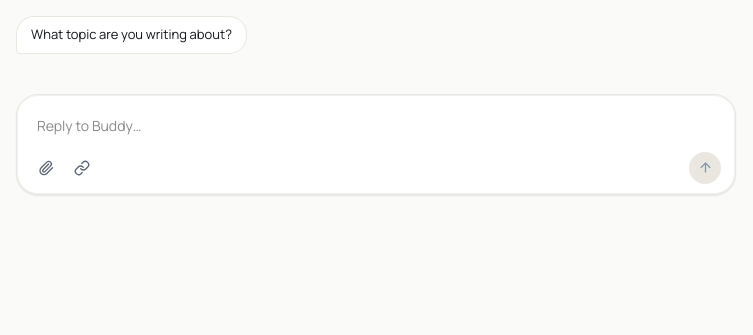
Test: Skip escape hatch › shows 'Skip to approach' after user sends first message
This screenshot has width=753, height=335.
Expected: the text "What topic are you writing about?" is shown, [16, 16, 247, 54]
In the text box: point(376, 125) [31, 106, 721, 144], type "Quantum computing"
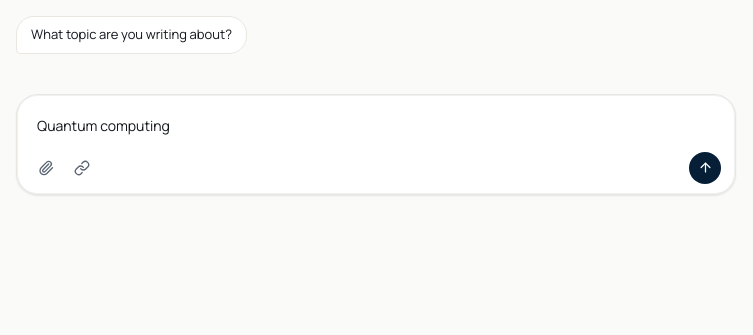
Click the button named "send": point(705, 168) [689, 152, 721, 184]
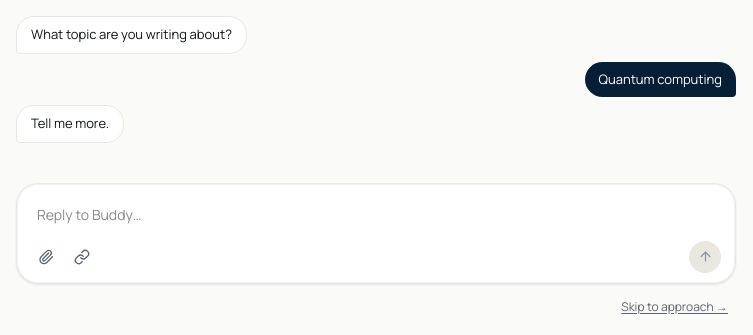
Now the text "Tell me more." is shown, box [16, 105, 124, 142]
Now the button "Skip to approach →" is shown, box [613, 294, 736, 319]
